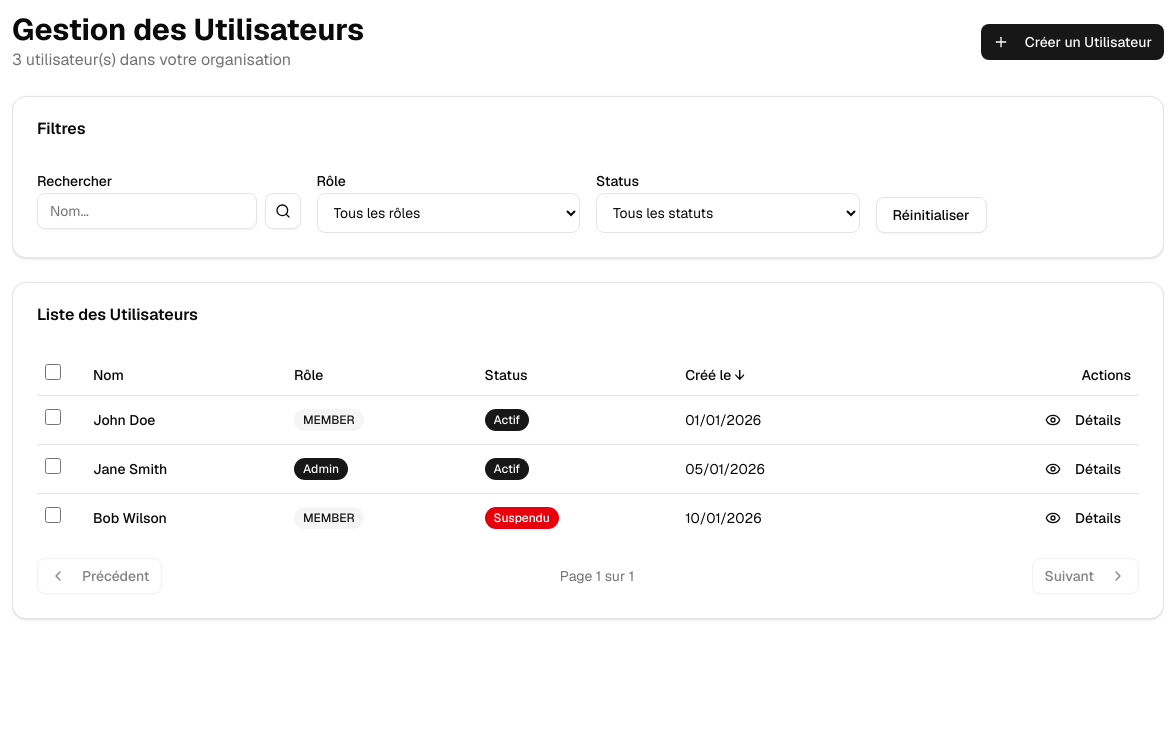
Test case: TenantUsersPage › User Selection › [USERS-033] select all checkbox selects all users
Click the checkbox named "Sélectionner tout" at (53, 372), box x1=45 y1=364 x2=61 y2=380
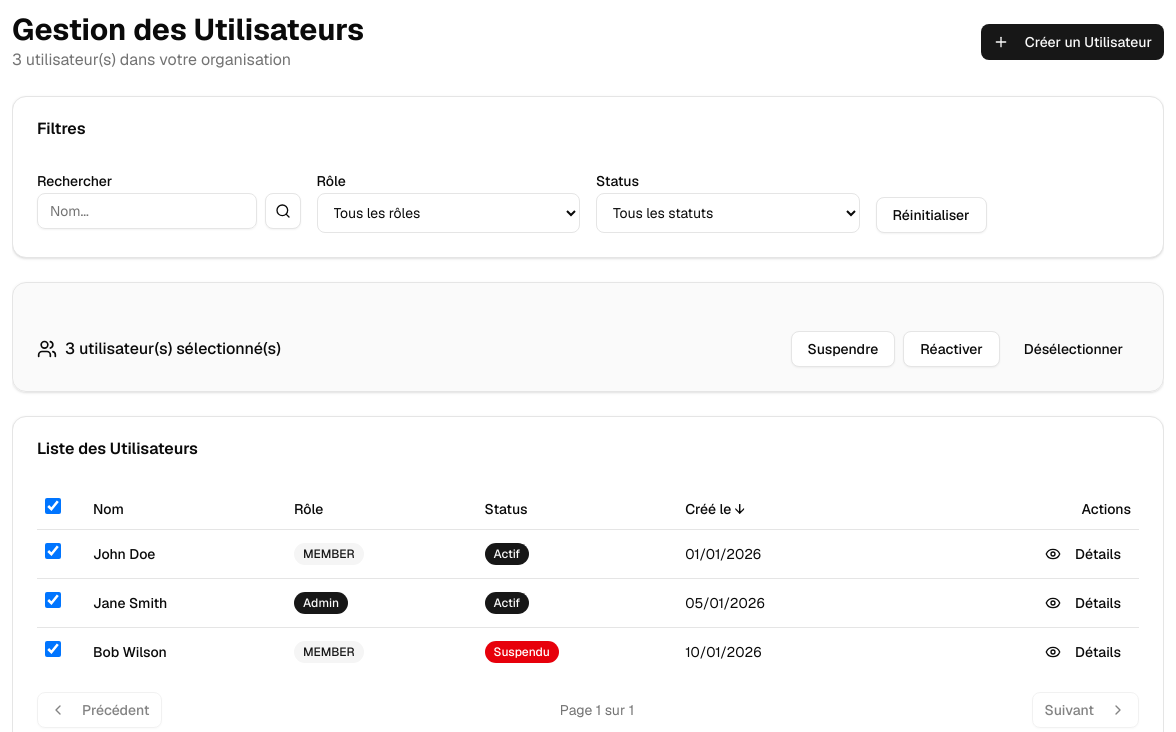
Expected: the text "3 utilisateur(s) sélectionné(s)" is shown, x1=65 y1=337 x2=281 y2=361
